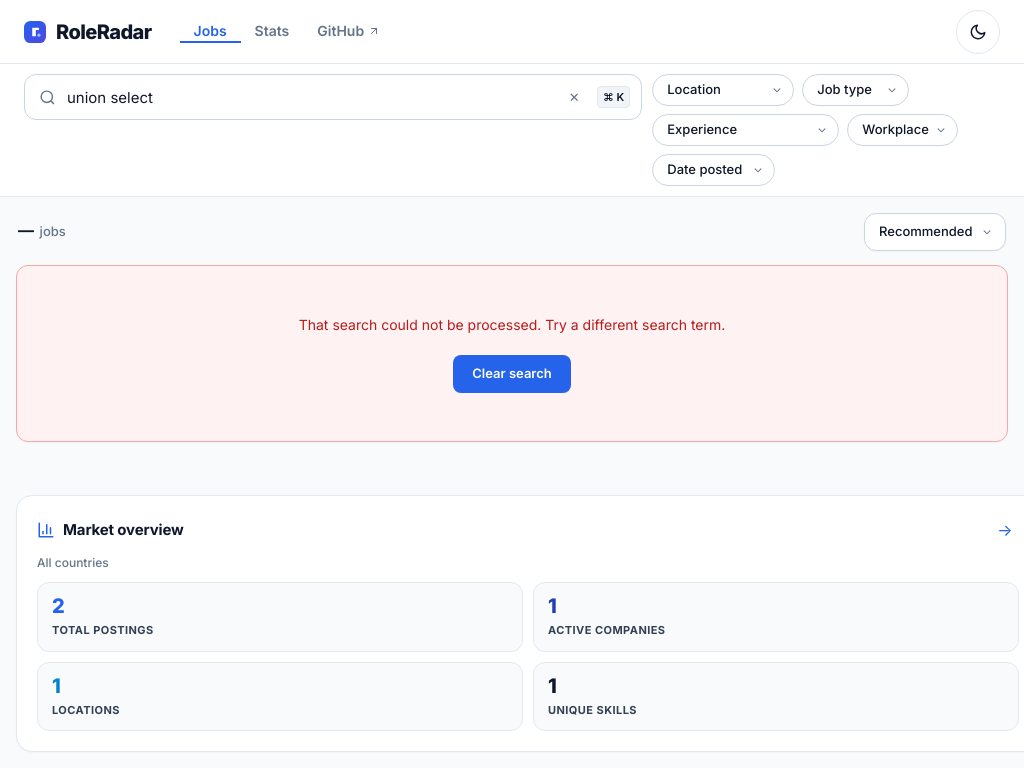
blocked search (HTTP 403 from the edge firewall) › recovers as soon as the query is cleared or edited
Click the button "Clear search" at (512,374), box [453, 355, 571, 393]
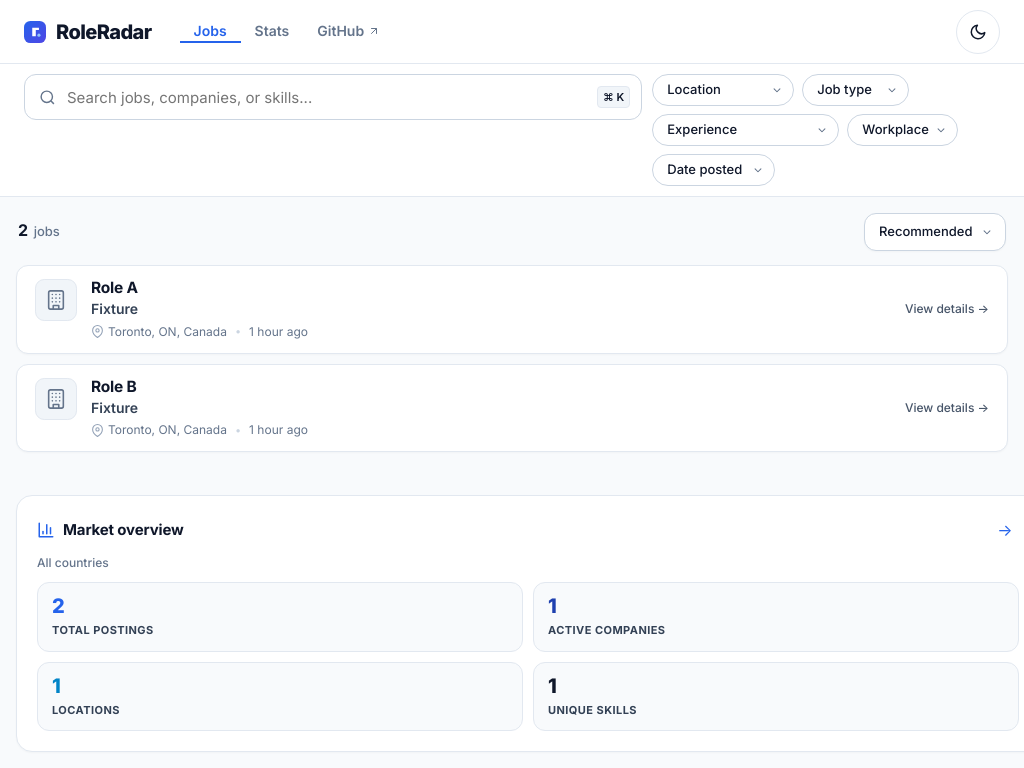
Expected: the message with test id "search-blocked" is gone
Expected: the search field is empty, [24, 74, 642, 120]
